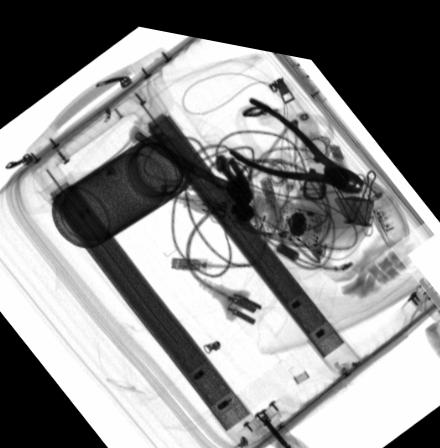Hammer: (128, 119, 253, 212)
Pliers: (228, 86, 363, 180)
